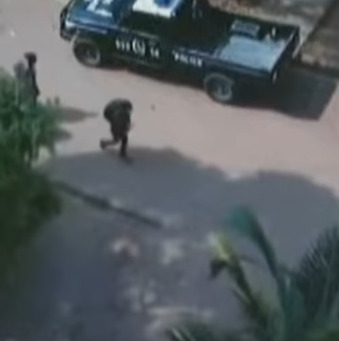person: (97, 98, 134, 166)
